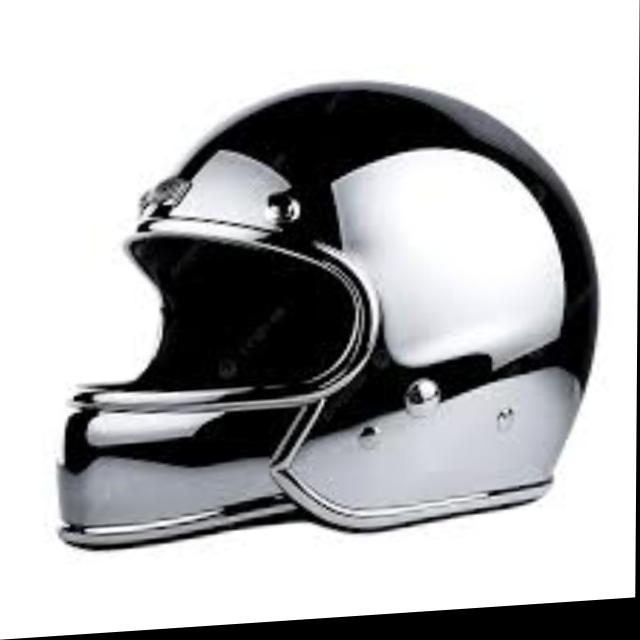motorcycle-helmets: (58, 63, 587, 558)
